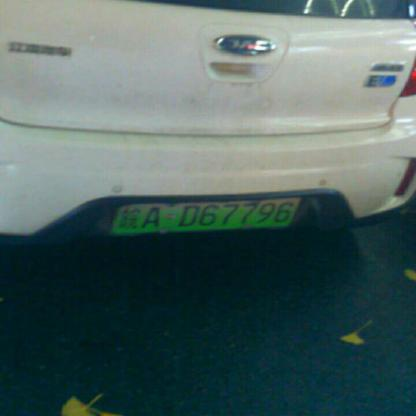lp: (114, 197, 300, 234)
